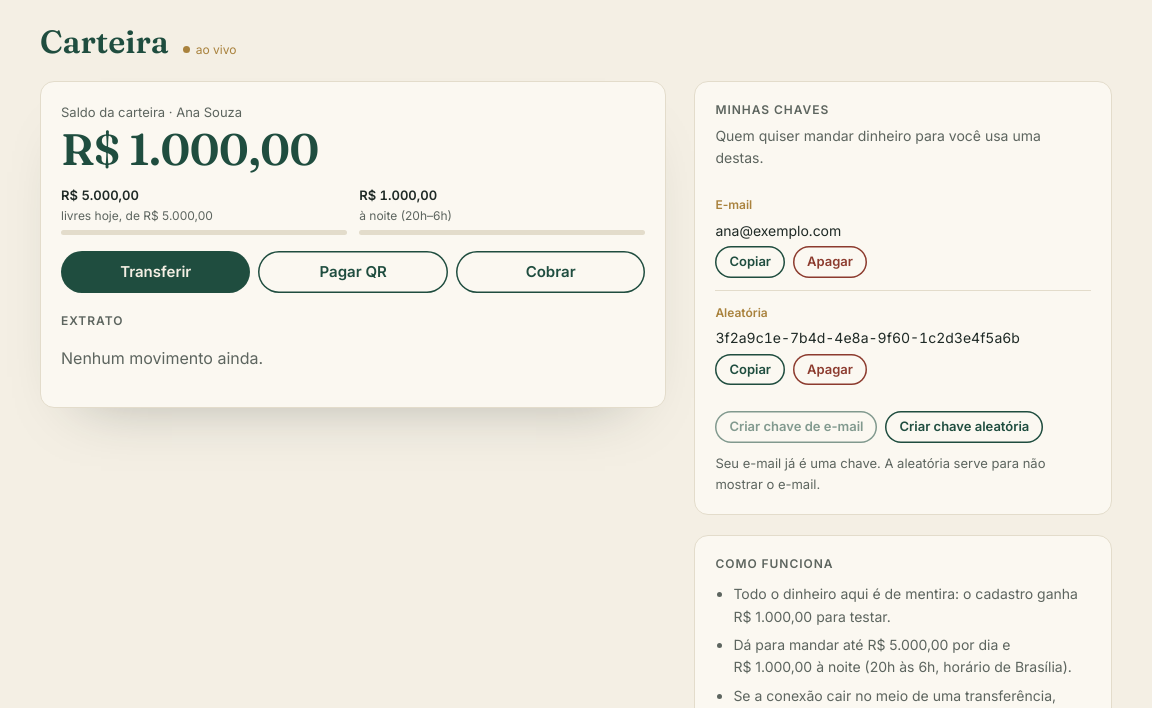
Test case: Minhas chaves › apaga só depois de confirmar
Click the button "Apagar" below "3f2a9c1e-7b4d-4e8a-9f60-1c2d3e4f5a6b".
click(830, 369)  # box [793,354,867,385]
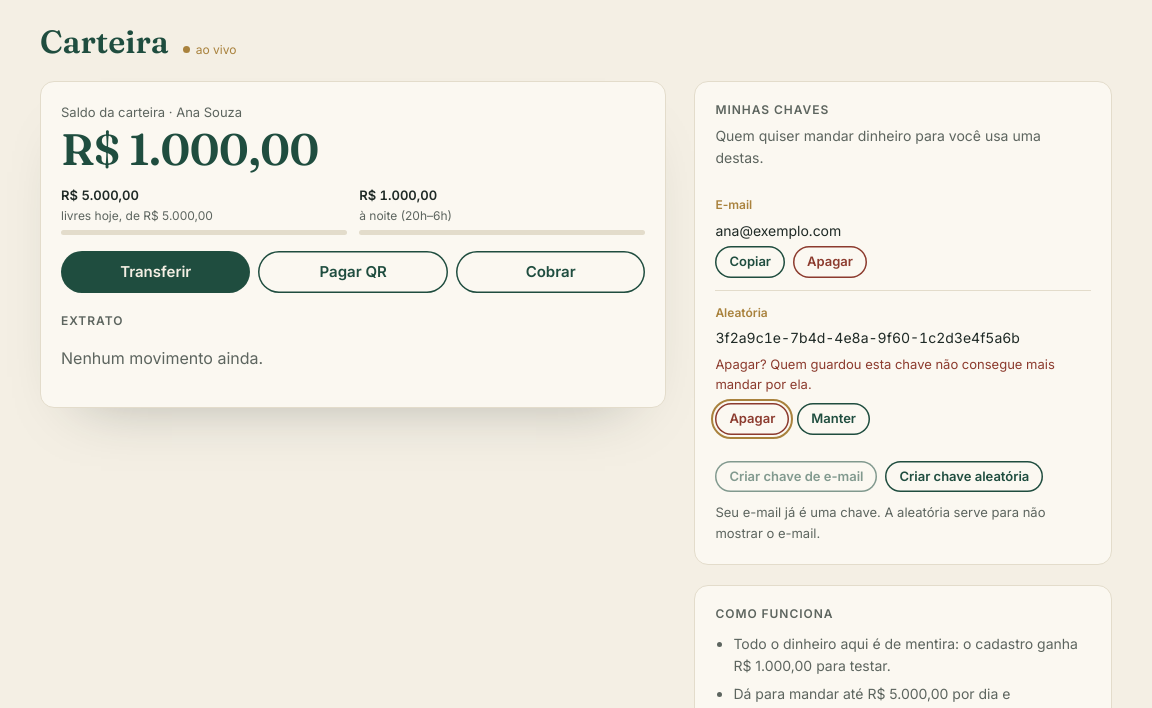
Expected: the text "Quem guardou esta chave" is shown, [715,356,1055,392]
Click the button "Manter".
click(834, 419)  # box [797,403,870,435]
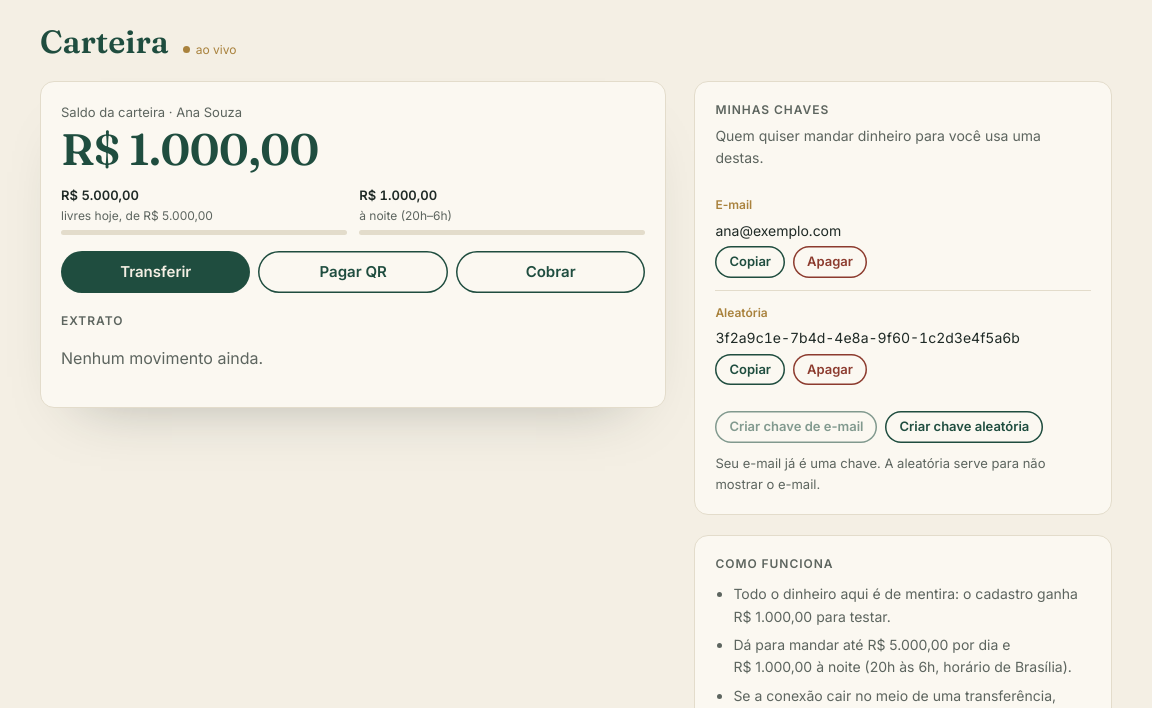
Click the button "Apagar" below "3f2a9c1e-7b4d-4e8a-9f60-1c2d3e4f5a6b".
click(830, 369)  # box [793,354,867,385]
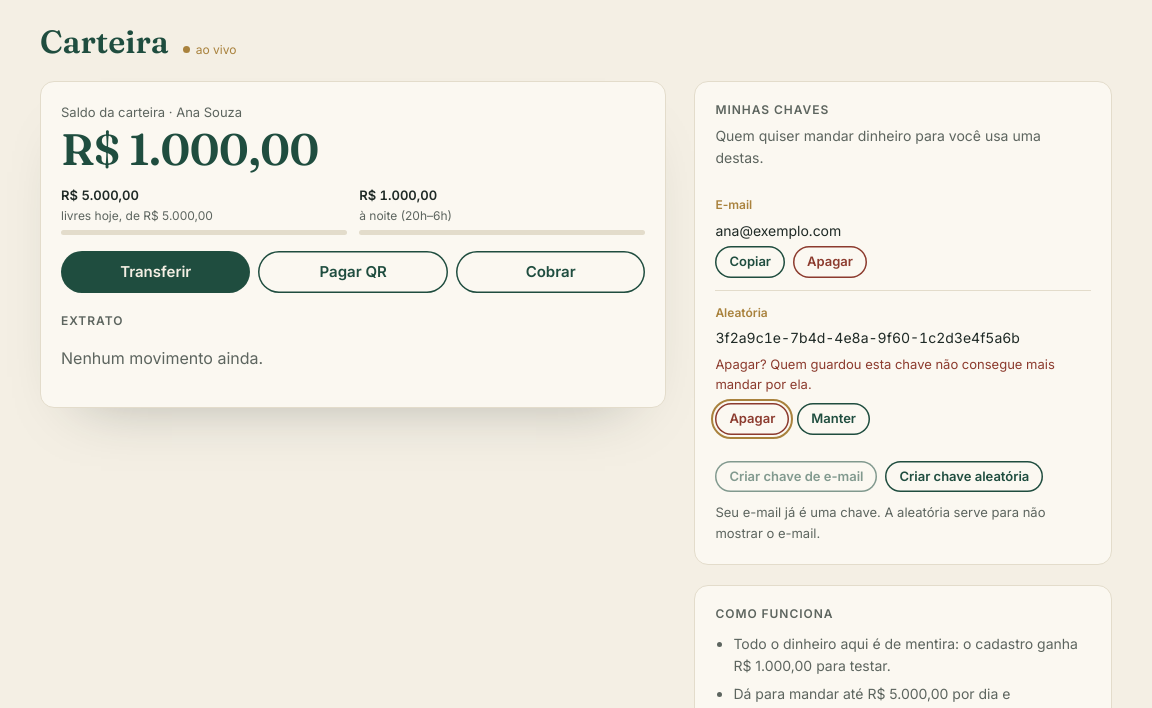
Click the button "Apagar" below "3f2a9c1e-7b4d-4e8a-9f60-1c2d3e4f5a6b".
click(752, 419)  # box [715,403,789,435]
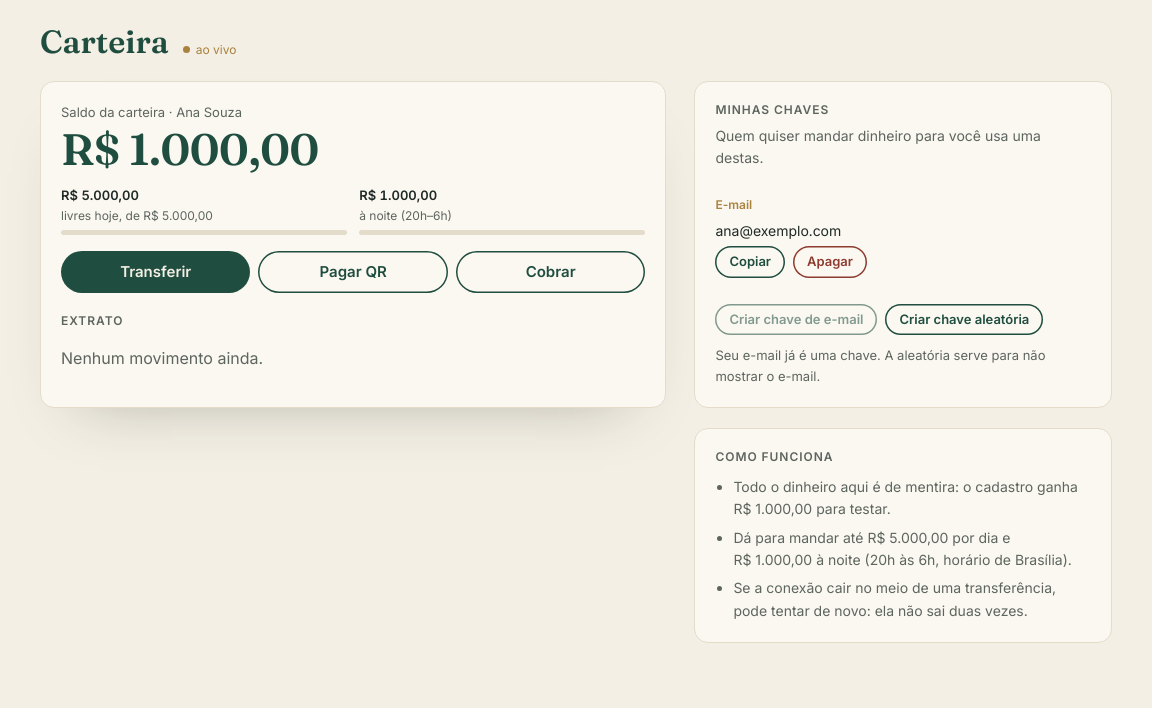
Expected: the text "3f2a9c1e-7b4d-4e8a-9f60-1c2d3e4f5a6b" is gone
